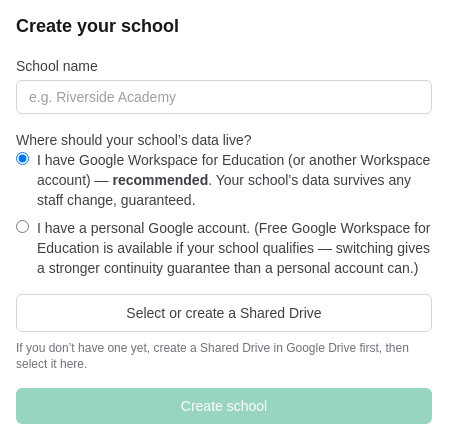
Scenario: NewSchoolClient › creates a school on the Workspace path using the picked Shared Drive id
Expected: the heading "Create your school" is shown, 16,16 -> 179,36
In the field labelled "School name": (224, 97) 16,80 -> 432,114, type "Riverside Academy"
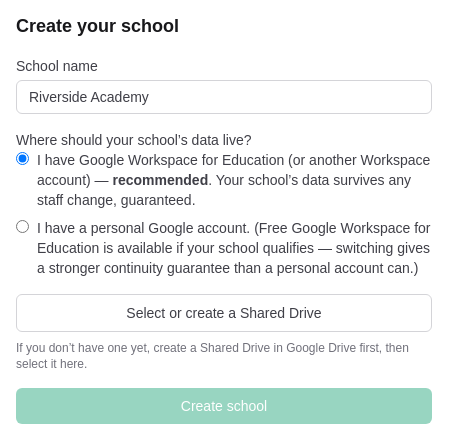
Click the button "Select or create a Shared Drive": (224, 313) 16,294 -> 432,332
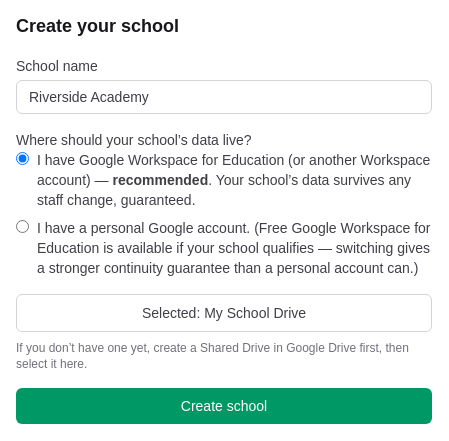
Expected: the button "Selected: My School Drive" is shown, 16,294 -> 432,332
Click the button "Create school": (224, 406) 16,388 -> 432,424
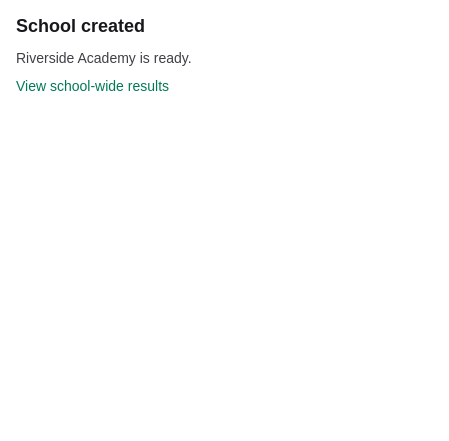
Expected: the heading "School created" is shown, 16,16 -> 145,36
